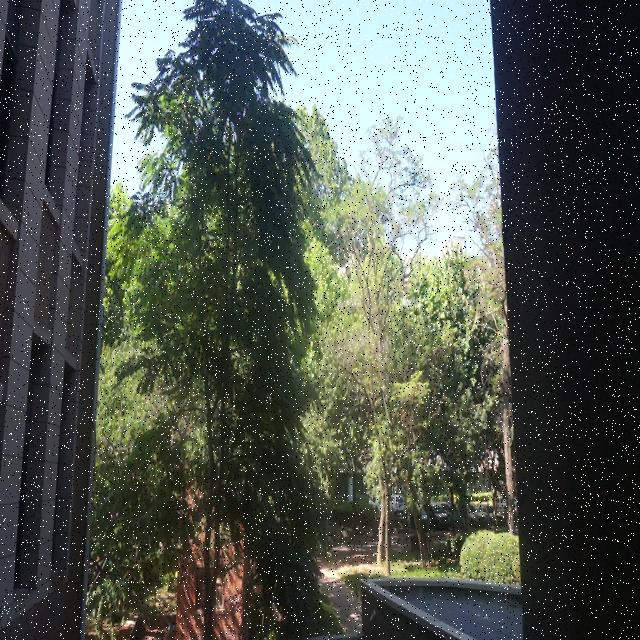UAV: (378, 213, 389, 224)
